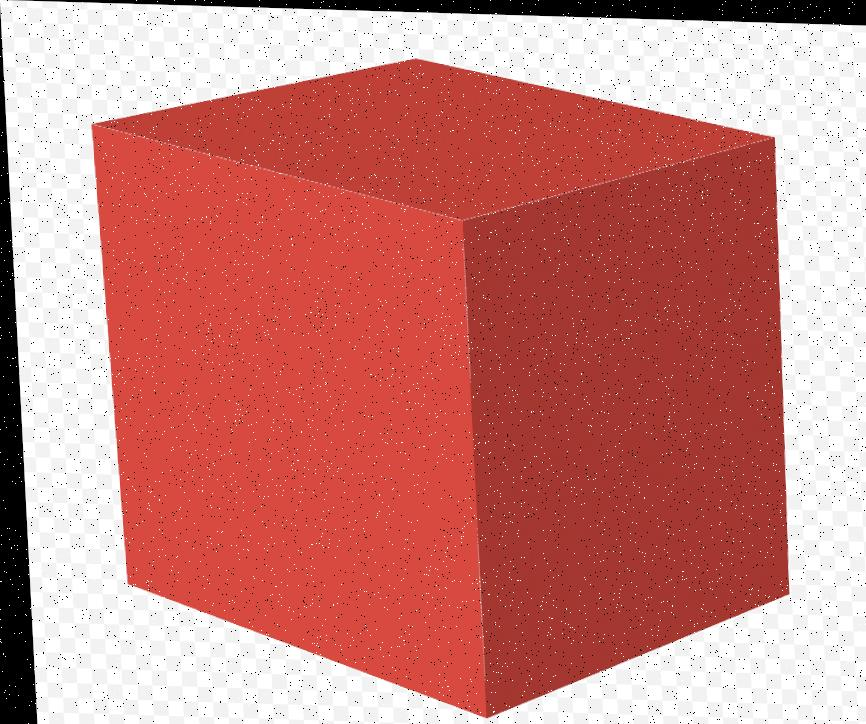cube: (81, 50, 797, 718)
